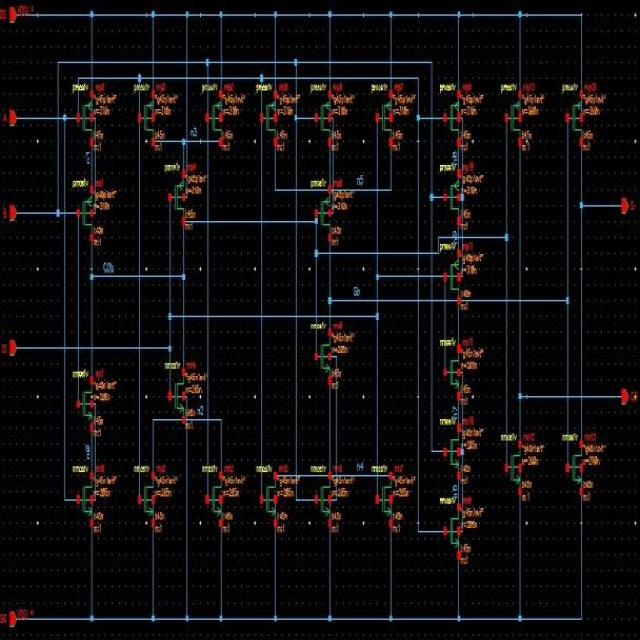nmos: (369, 463, 396, 530), (200, 462, 226, 530), (306, 321, 332, 389), (308, 462, 334, 529), (559, 432, 585, 497), (254, 462, 279, 529), (70, 369, 95, 432), (500, 430, 523, 498), (437, 494, 462, 556), (438, 336, 462, 400), (438, 417, 462, 480), (70, 464, 94, 526), (163, 358, 185, 422), (133, 463, 155, 526)
pmos: (428, 164, 462, 224), (497, 80, 524, 148), (559, 81, 586, 148), (306, 179, 334, 243), (369, 82, 394, 149), (437, 82, 462, 147), (438, 240, 463, 304), (200, 83, 224, 149), (254, 84, 279, 147), (70, 84, 94, 148), (70, 179, 94, 241), (309, 84, 332, 147), (163, 164, 186, 226), (134, 84, 155, 147)
